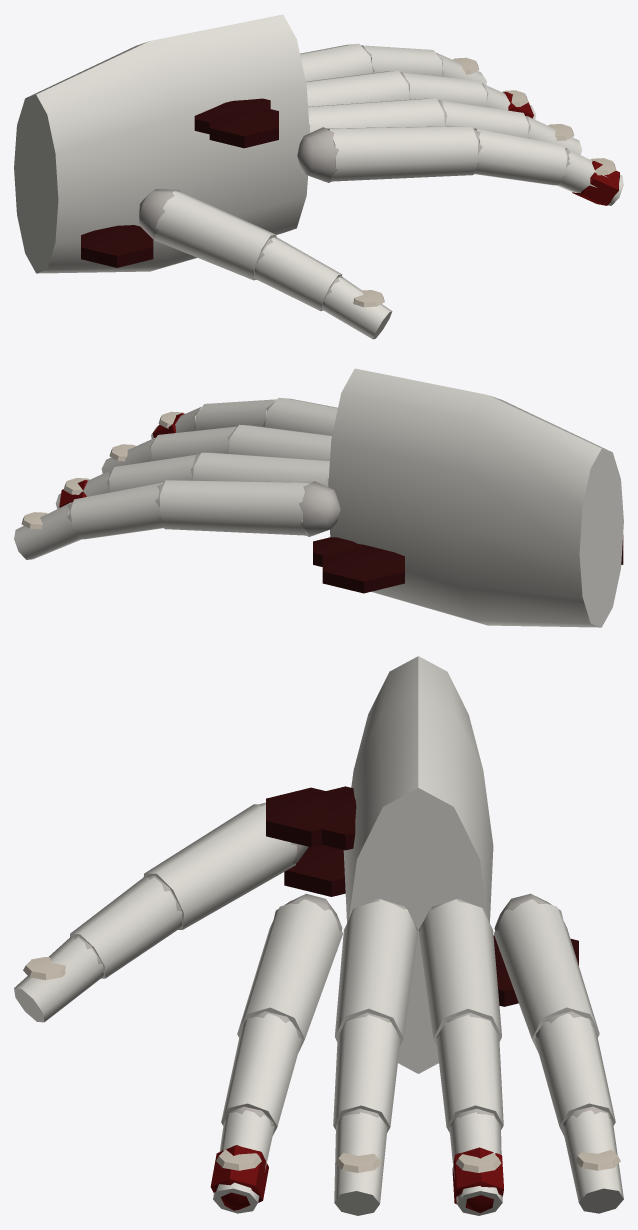
Rendered from ps_hand.glb.
The picture shows the model from 3 angles, top to bottom: view 1: azimuth 30°, elevation 25°; view 2: azimuth 150°, elevation 25°; view 3: azimuth 270°, elevation 25°; orthographic projection. The views are drawn at different scales.
Parts seen in each view (by area): view 1: teil0, teil4, teil1, teil2, teil3; view 2: teil0, teil4, teil1, teil2, teil3; view 3: teil0, teil4, teil3, teil2, teil1.
Part boxes in pixels (x1,y1,x2,y2): teil0: (14,14,623,339); teil4: (81,98,278,267); teil1: (139,45,570,304); teil2: (353,57,616,307); teil3: (503,92,619,205); teil0: (14,368,623,627); teil4: (313,535,623,593); teil1: (67,399,340,536); teil2: (21,411,184,529); teil3: (59,413,184,507); teil0: (14,656,623,1215); teil4: (266,786,578,1006); teil3: (210,1145,503,1212); teil2: (23,957,620,1172); teil1: (74,802,610,1127).
Size of the model in its own units: 0.2733 by 0.116 by 0.2124.
